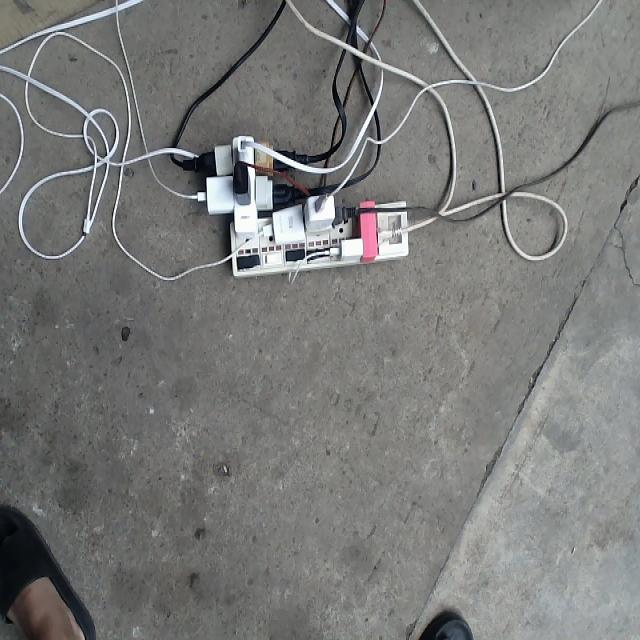-: (187, 136, 406, 273)
